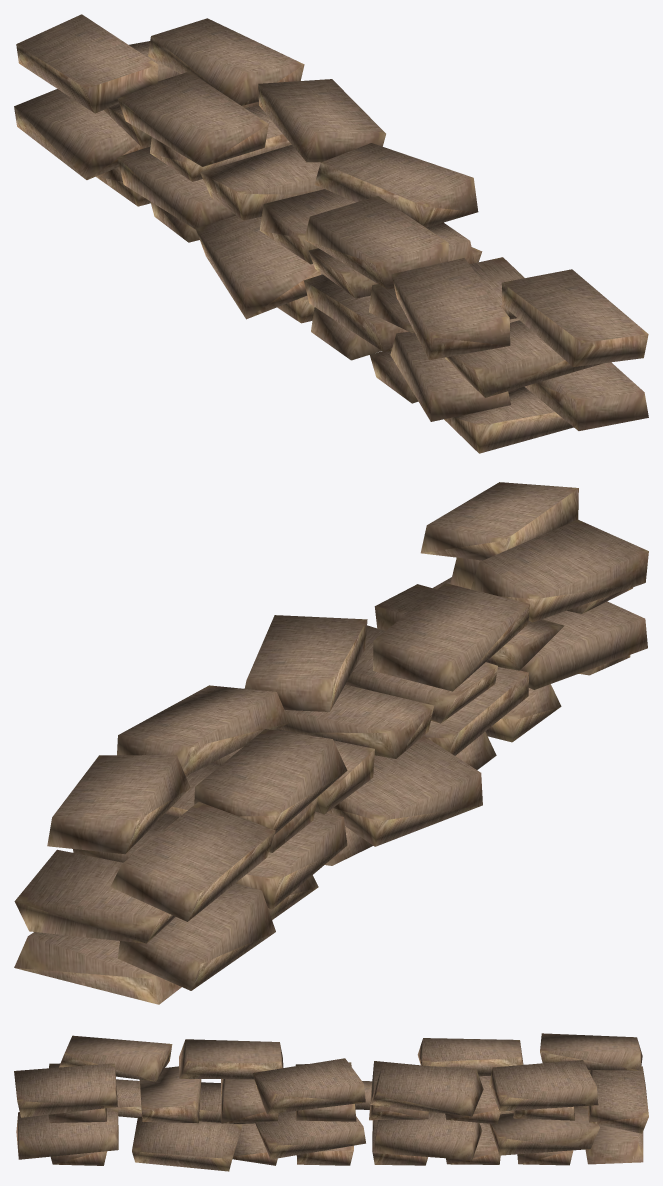
3 views of the same model, one above another, from view 1: azimuth 30°, elevation 25°; view 2: azimuth 150°, elevation 25°; view 3: azimuth 270°, elevation 25° (orthographic). The views are drawn at different scales.
Visible parts, largest first — view 1: base_sb_line; view 2: base_sb_line; view 3: base_sb_line.
Boxes of the visible parts, x1,y1,x2,y2 form: base_sb_line: (14, 14, 648, 453); base_sb_line: (14, 482, 648, 1004); base_sb_line: (14, 1033, 648, 1171).
Bounding box in the file's own units: 2.97 × 1.58 × 10.46.
Materials: 1 (1 with a texture image).
